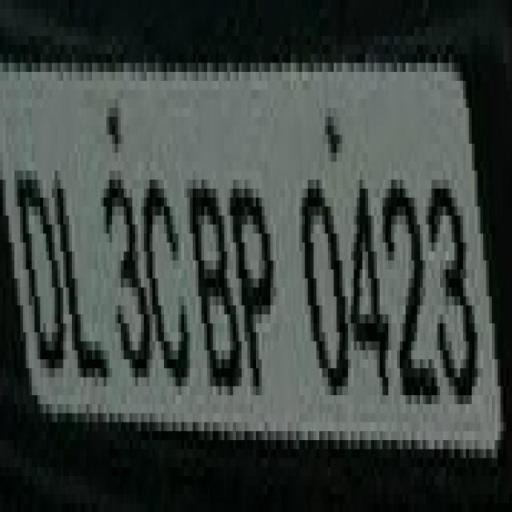number plate: (9, 54, 512, 450)
